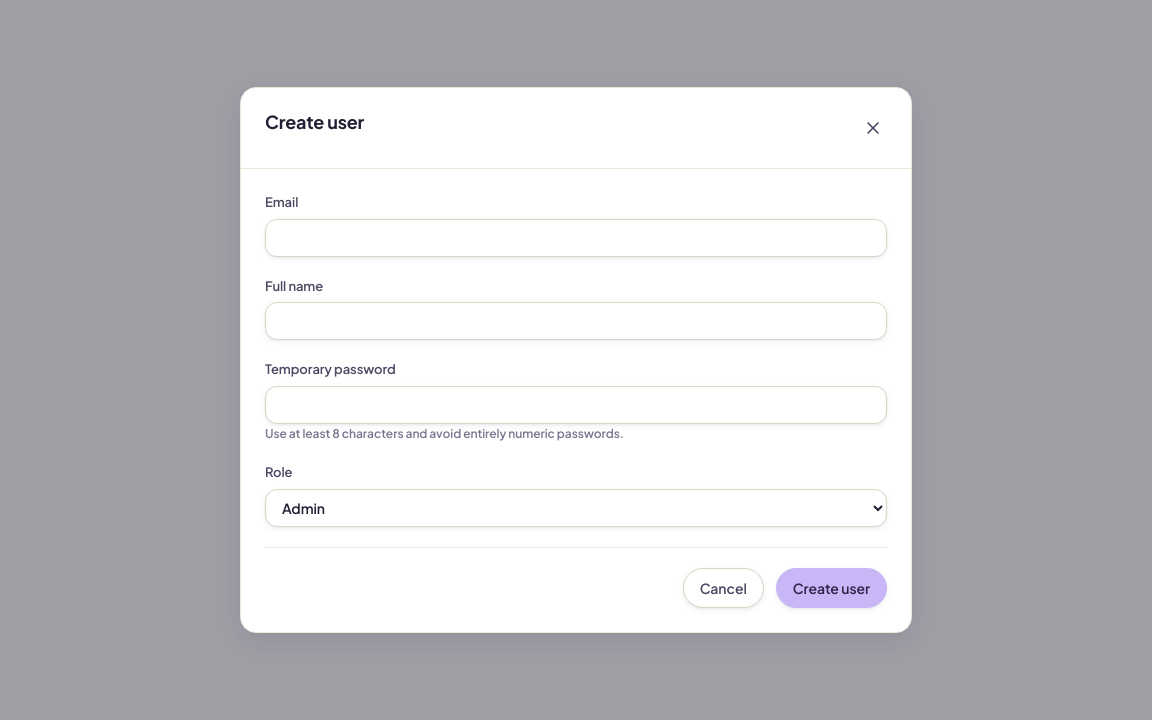
Test case: CreateUserModal › renders backend duplicate email and weak password errors inline
In the field labelled "Email": (576, 238) x1=265 y1=219 x2=887 y2=257, type "dupe@example.com"
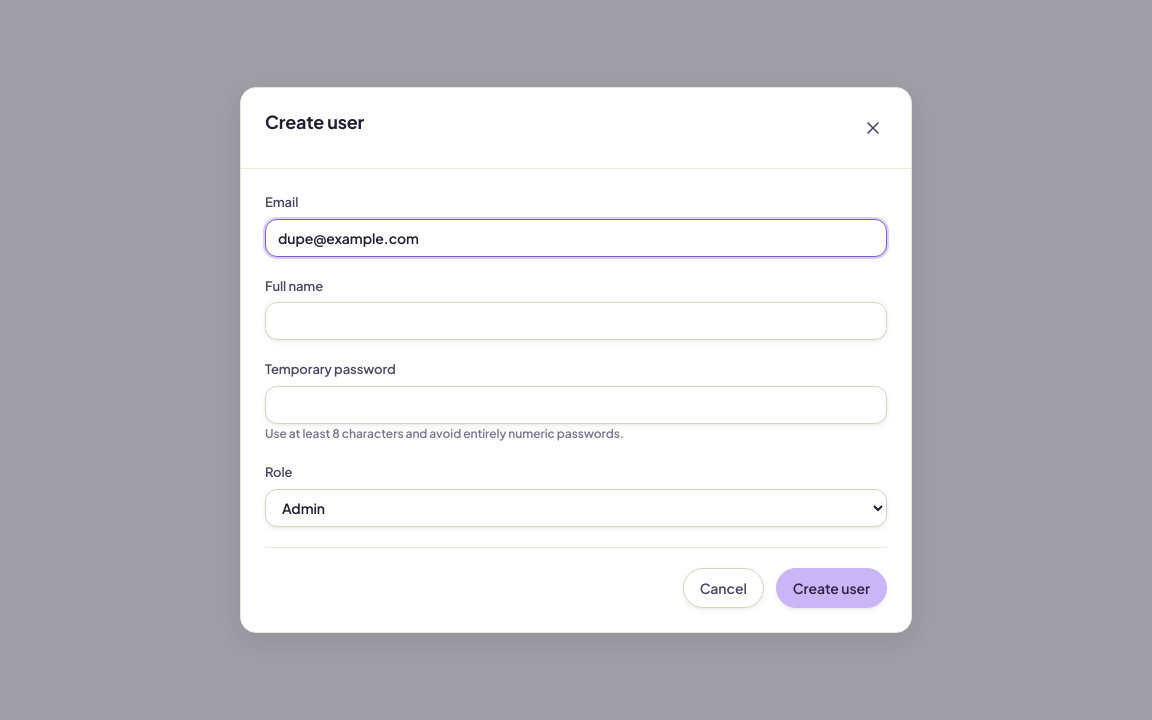
In the field labelled "Full name": (576, 321) x1=265 y1=302 x2=887 y2=340, type "Duplicate User"
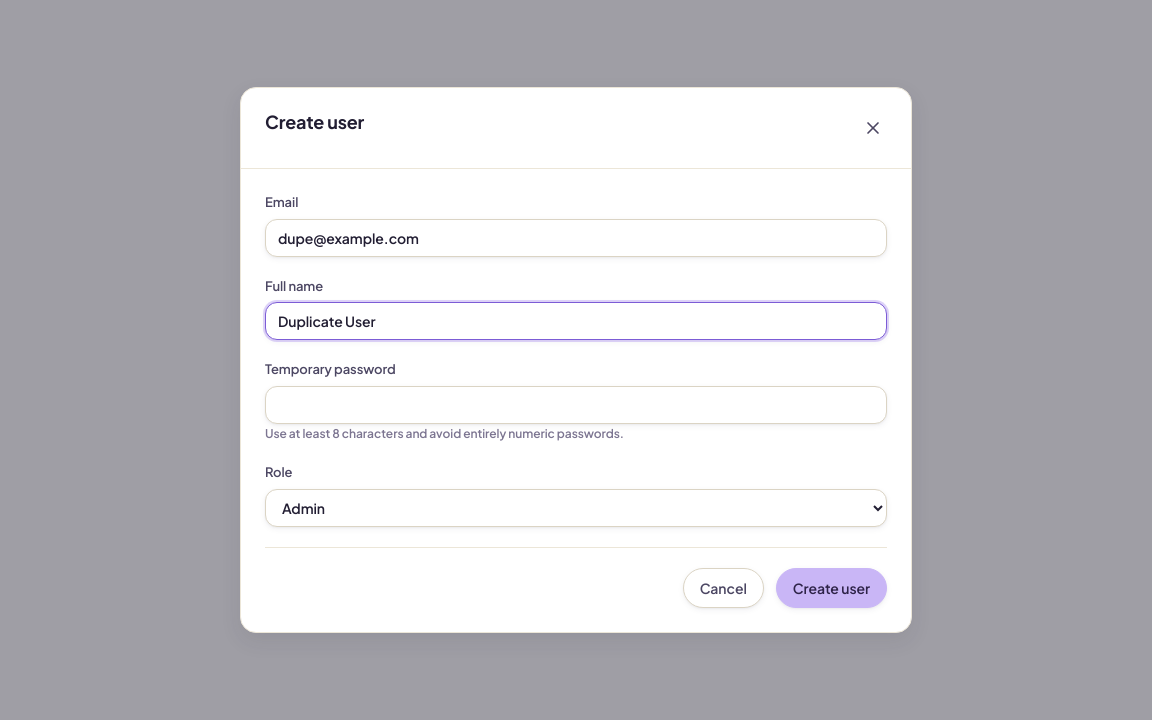
In the password field labelled "Temporary password": (576, 405) x1=265 y1=386 x2=887 y2=424, type "password"
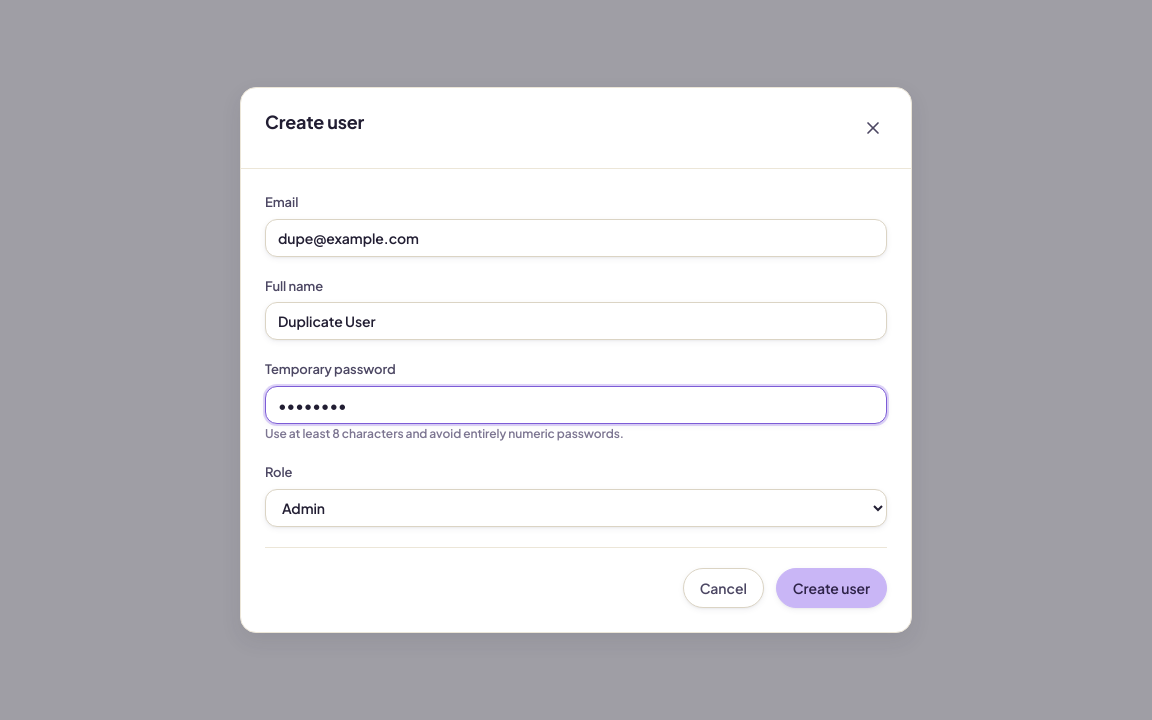
Select "Dispenser" in the dropdown labelled "Role": (576, 508) x1=265 y1=489 x2=887 y2=527
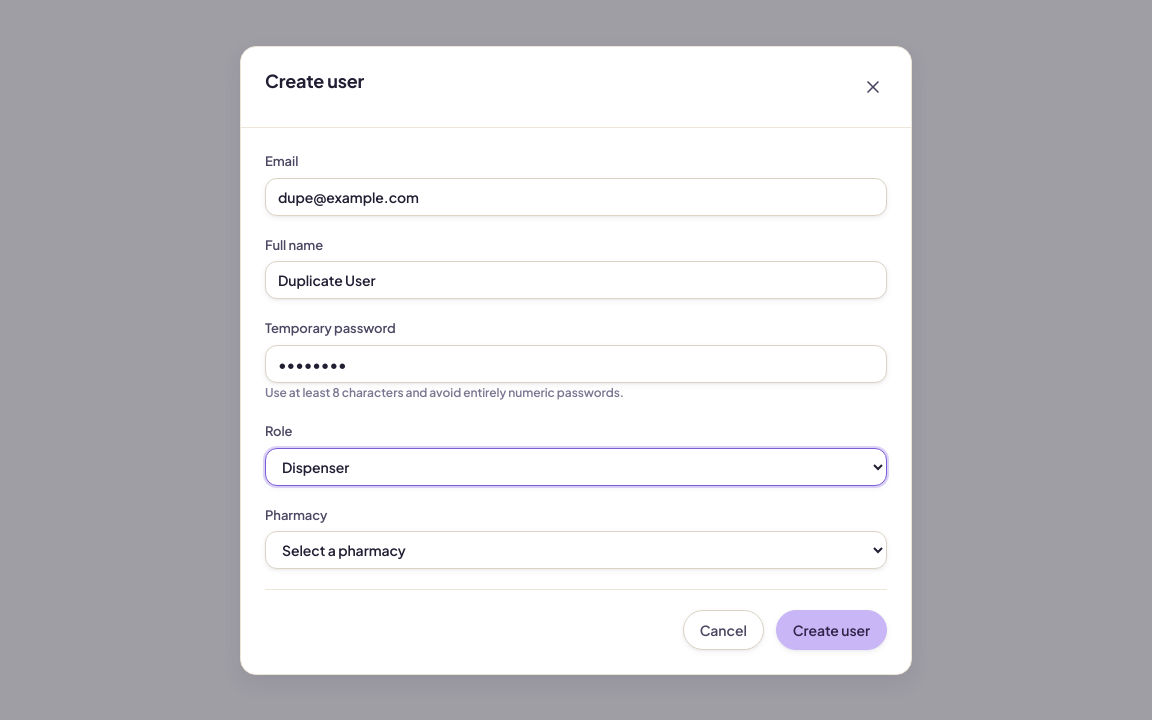
Select "North Pharmacy" in the dropdown labelled "Pharmacy": (576, 550) x1=265 y1=530 x2=887 y2=568
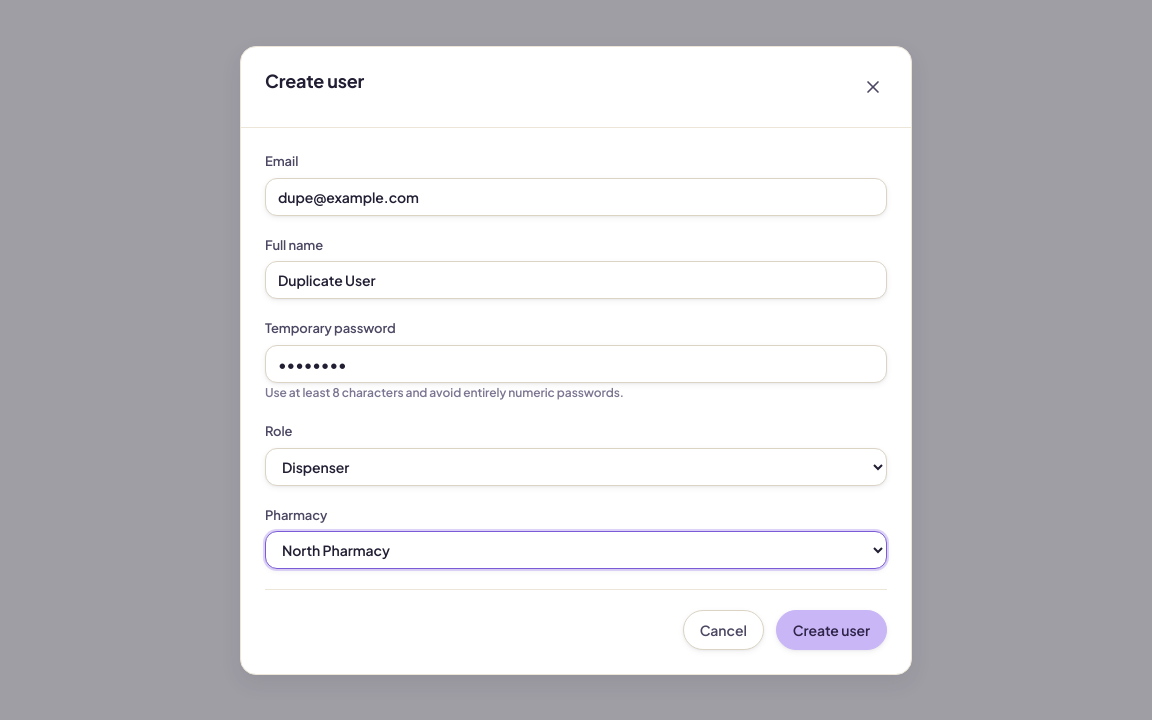
Click the button "Create user": (831, 630) x1=776 y1=610 x2=887 y2=650
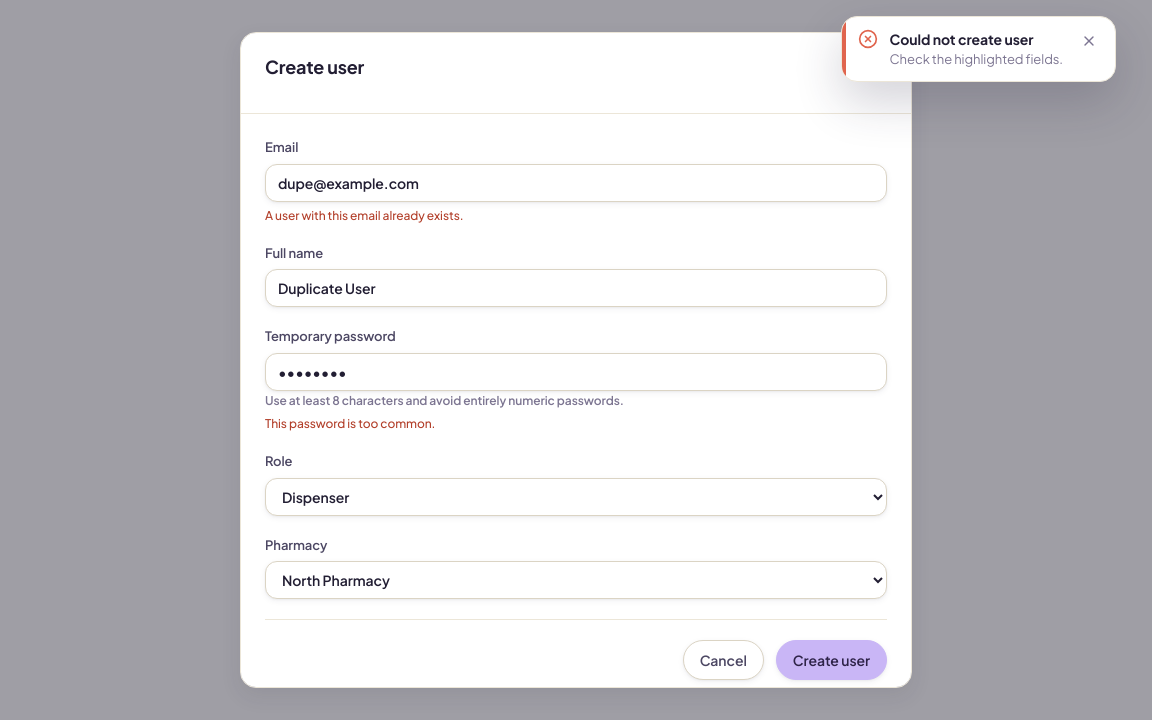
Now the list item "A user with this email already exists." is shown, box x1=265 y1=208 x2=463 y2=222
Now the list item "This password is too common." is shown, box x1=265 y1=416 x2=435 y2=431
